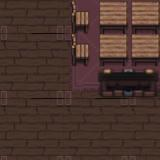Hide: (96, 67, 160, 101)
Obstacle: (97, 0, 130, 35), (97, 34, 130, 69), (66, 32, 98, 68), (66, 0, 99, 34), (129, 0, 160, 34), (130, 33, 160, 68)
